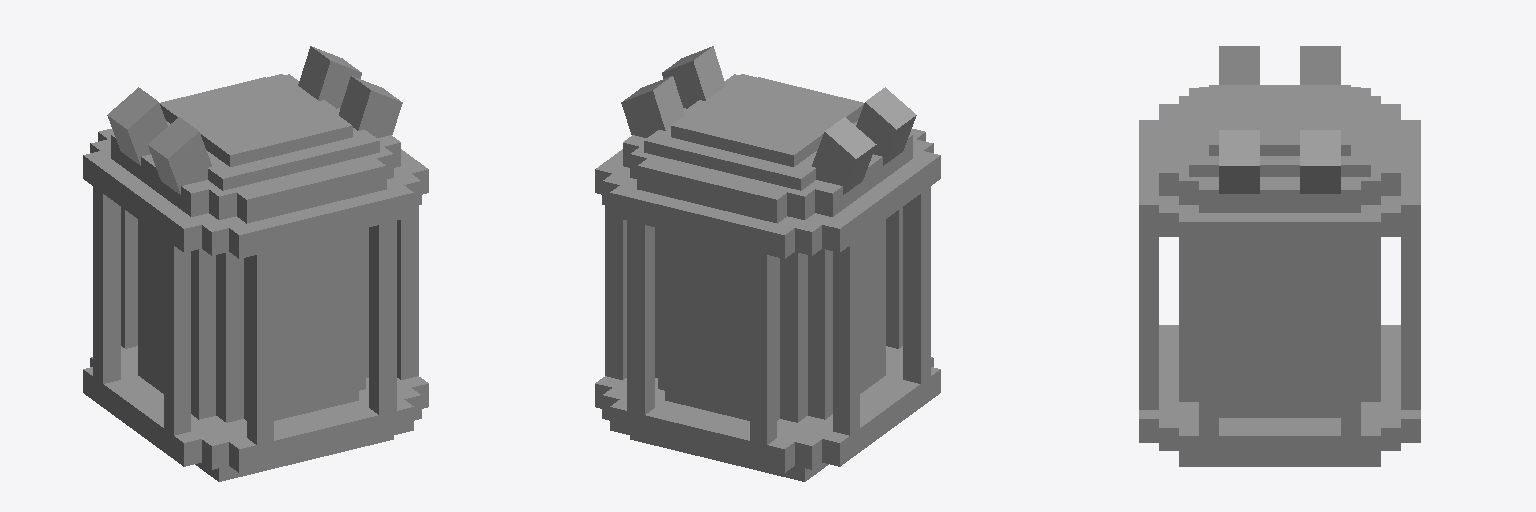
File: reactor_cell.obj
The picture shows the model from 3 angles: view 1: azimuth 30°, elevation 25°; view 2: azimuth 150°, elevation 25°; view 3: azimuth 270°, elevation 25°; orthographic projection.
Parts seen in each view (by area): view 1: MiddlePBack, HatCover, MiddlePRight, TopBaseDepth, BaseDepth, HatDepth, OPBackLeft, TopBaseWidth, OPLeftFront2, OPBackRight, OPRightBack, MiddleBackRight (+14 smaller); view 2: MiddlePFront, HatCover, MiddlePRight, TopBaseDepth, BaseDepth, HatDepth, OPFrontLeft, TopBaseWidth, OPRightBack, OPFrontRight, OPLeftFront2, MiddleFrontRight (+14 smaller); view 3: MiddlePLeft, HatCover, Base, TopBaseWidth, BaseWidth, HatTop, TopBaseDepth, HatDepth, HatWidth, OPLeftFront1, OPLeftBack, OPFrontLeft (+11 smaller).
Boxes of the visible parts, box(x1,y1,x2,y2) form: MiddlePBack: box(244, 230, 358, 420); HatCover: box(160, 74, 352, 166); MiddlePRight: box(138, 219, 215, 419); TopBaseDepth: box(98, 129, 413, 258); BaseDepth: box(121, 346, 413, 472); HatDepth: box(161, 77, 386, 223); OPBackLeft: box(369, 221, 396, 414); TopBaseWidth: box(83, 149, 428, 252); OPLeftFront2: box(93, 187, 120, 383); OPBackRight: box(247, 251, 273, 444); OPRightBack: box(164, 239, 190, 435); MiddleBackRight: box(216, 252, 243, 422); MiddlePFront: box(665, 230, 779, 420); HatCover: box(671, 74, 863, 166); MiddlePRight: box(808, 219, 885, 419); TopBaseDepth: box(610, 129, 925, 258); BaseDepth: box(610, 346, 902, 472); HatDepth: box(637, 77, 862, 223); OPFrontLeft: box(627, 221, 654, 414); TopBaseWidth: box(595, 149, 940, 252); OPRightBack: box(903, 187, 930, 383); OPFrontRight: box(750, 251, 776, 444); OPLeftFront2: box(833, 239, 859, 435); MiddleFrontRight: box(780, 252, 807, 422); MiddlePLeft: box(1219, 246, 1340, 417); HatCover: box(1209, 85, 1350, 155); Base: box(1159, 325, 1400, 450); TopBaseWidth: box(1179, 205, 1380, 245); BaseWidth: box(1179, 428, 1380, 459); HatTop: box(1189, 88, 1370, 176); TopBaseDepth: box(1139, 120, 1420, 228); HatDepth: box(1159, 104, 1400, 195); HatWidth: box(1199, 87, 1360, 212); OPLeftFront1: box(1341, 246, 1360, 435); OPLeftBack: box(1199, 246, 1218, 435); OPFrontLeft: box(1401, 229, 1420, 409).
Size of the model in its own units: 0.875 by 1.15 by 0.875.